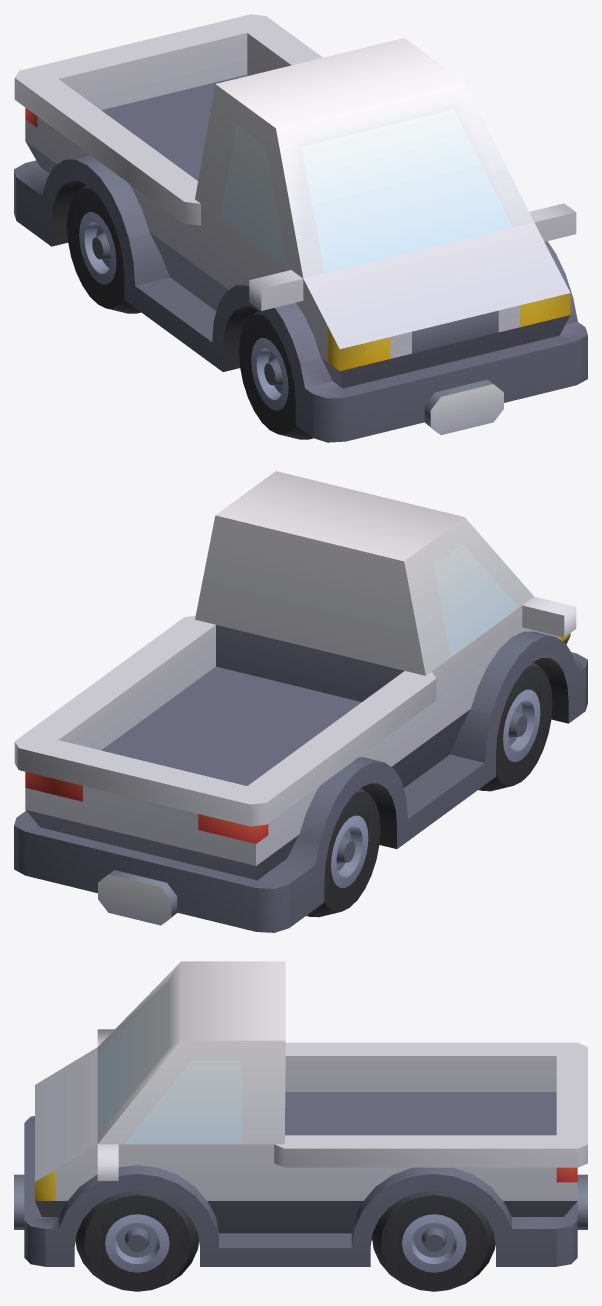
Rendered from kenney-car-truck-flat.glb.
3 views of the same model, one above another, from view 1: azimuth 30°, elevation 25°; view 2: azimuth 150°, elevation 25°; view 3: azimuth 270°, elevation 25° (orthographic). The views are drawn at different scales.
Parts seen in each view (by area): view 1: wheel-front-left; view 2: wheel-front-left; view 3: wheel-front-left.
Part boxes in pixels (<box>): wheel-front-left: <box>14,14,587,442</box>; wheel-front-left: <box>14,471,587,932</box>; wheel-front-left: <box>14,961,587,1291</box>.
Size of the model in its own units: 1.5 by 1.3 by 2.75.
1 material, 1 textured.
